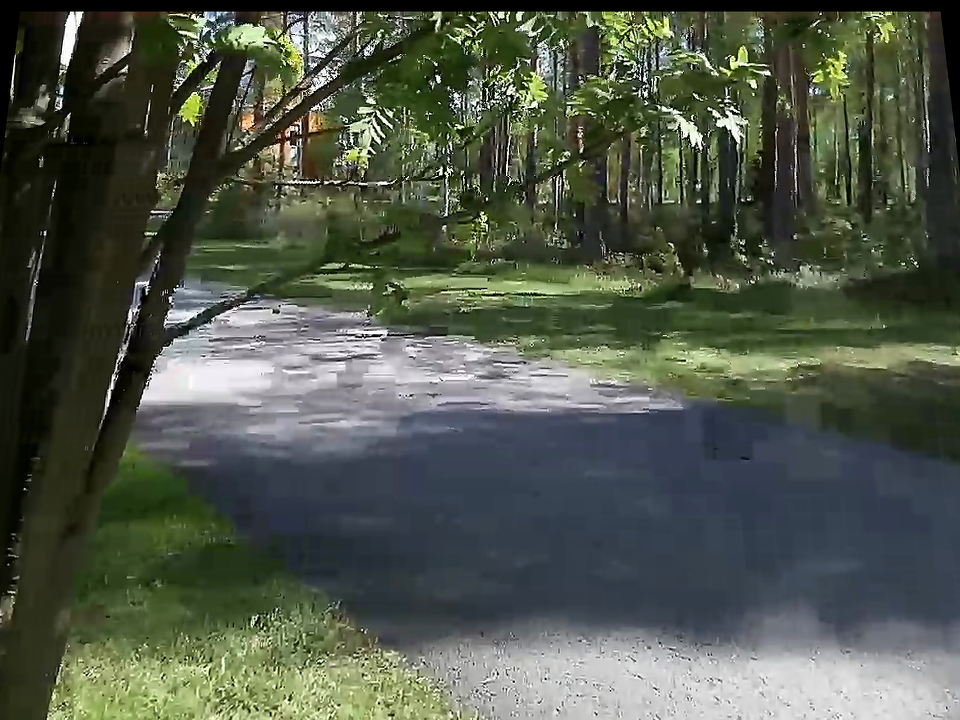branch: (182, 252, 284, 341), (560, 128, 645, 173), (614, 100, 688, 151), (502, 154, 585, 199)
trunk: (2, 64, 266, 674)
